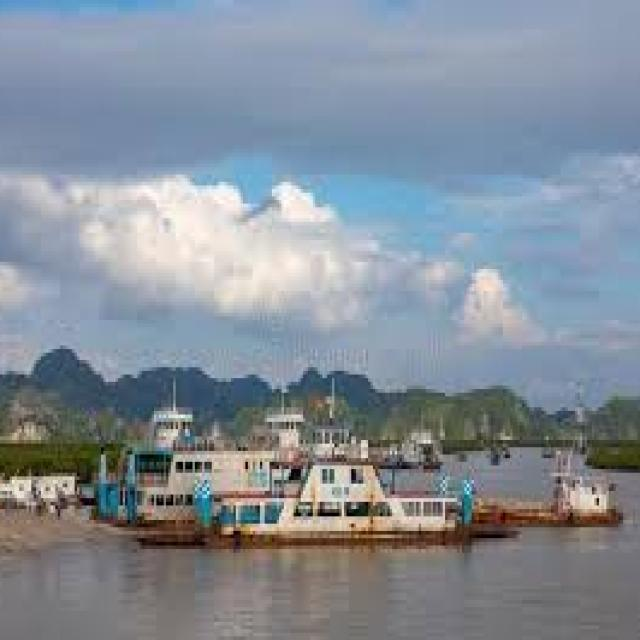houseboat: (226, 458, 482, 549)
